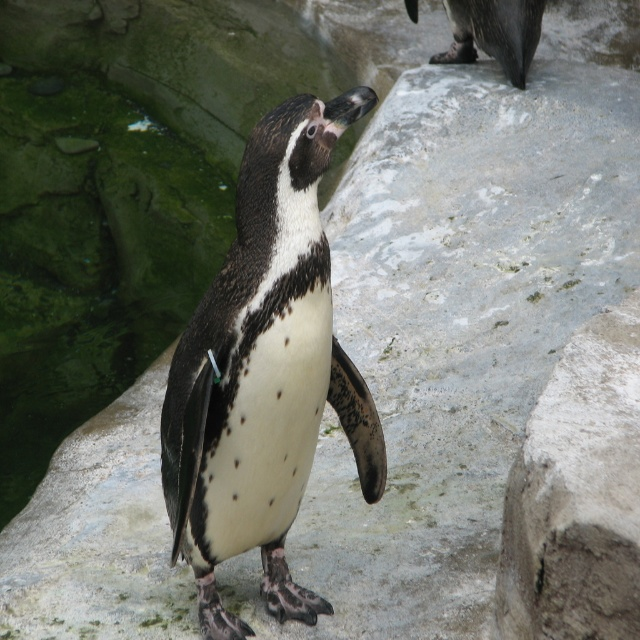Penguin: (159, 85, 390, 639), (403, 0, 546, 90)
